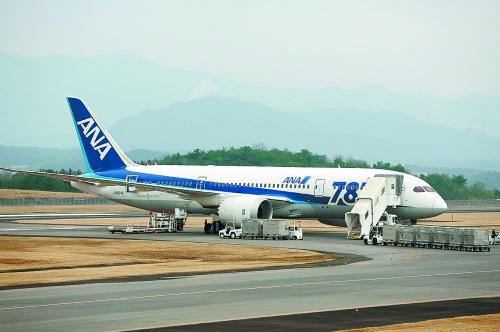airplane: (1, 94, 448, 235)
